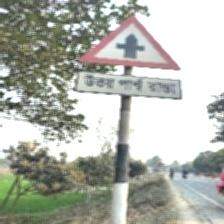Crossroad: (75, 14, 184, 103)
